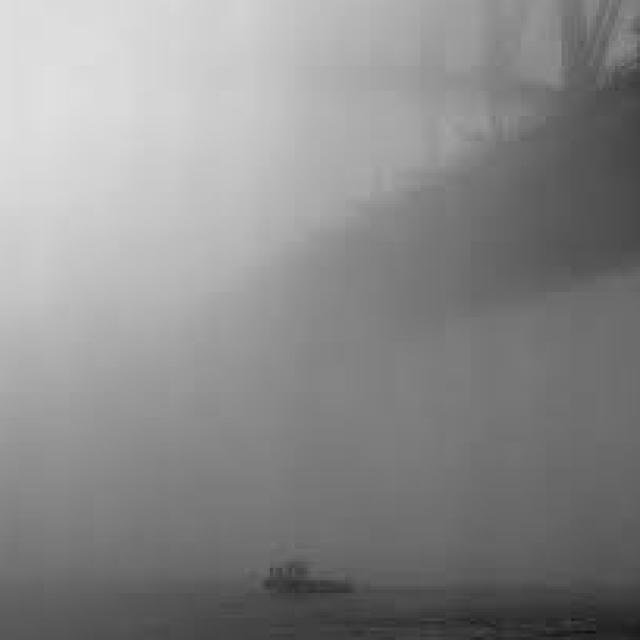fishing boat: (262, 546, 384, 596)
